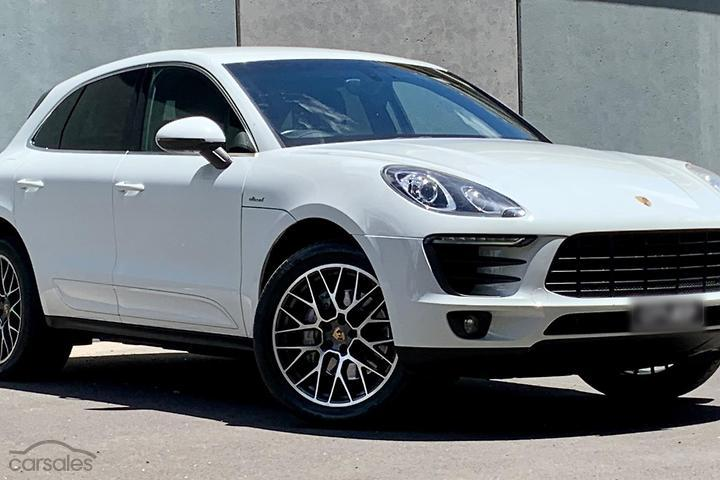porsche: (628, 189, 657, 210)
